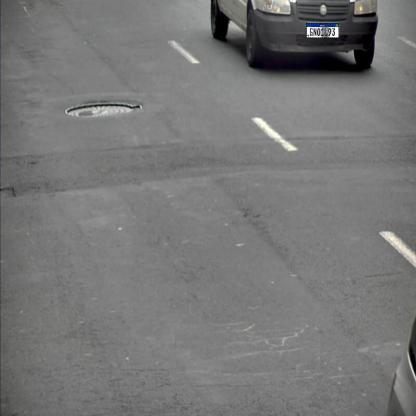PlacaM: (306, 23, 339, 38)
